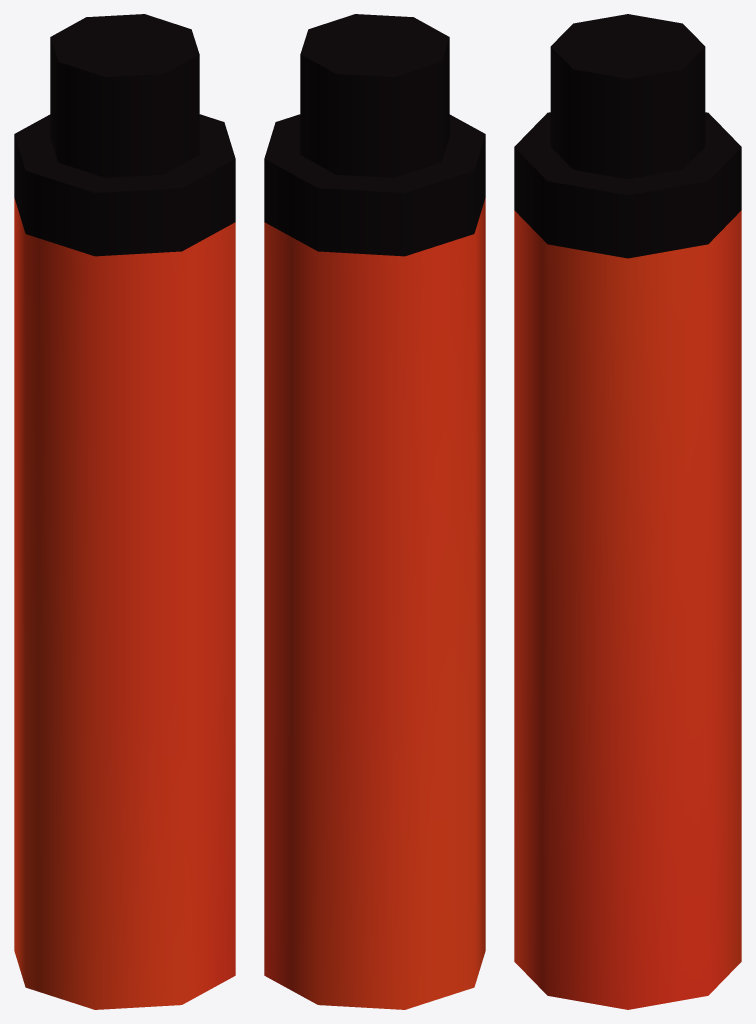
3 views of the same model, side by side, from view 1: azimuth 30°, elevation 25°; view 2: azimuth 150°, elevation 25°; view 3: azimuth 270°, elevation 25° (orthographic).
Visible parts, largest first — view 1: Joint_0_Object_0; view 2: Joint_0_Object_0; view 3: Joint_0_Object_0.
Boxes of the visible parts, box(x1,y1,x2,y2) form: Joint_0_Object_0: box(14, 14, 235, 1009); Joint_0_Object_0: box(264, 14, 485, 1009); Joint_0_Object_0: box(514, 14, 741, 1009).
Bounding box in the file's own units: 40.26 × 178 × 39.99.
Materials: 1 (1 with a texture image).
